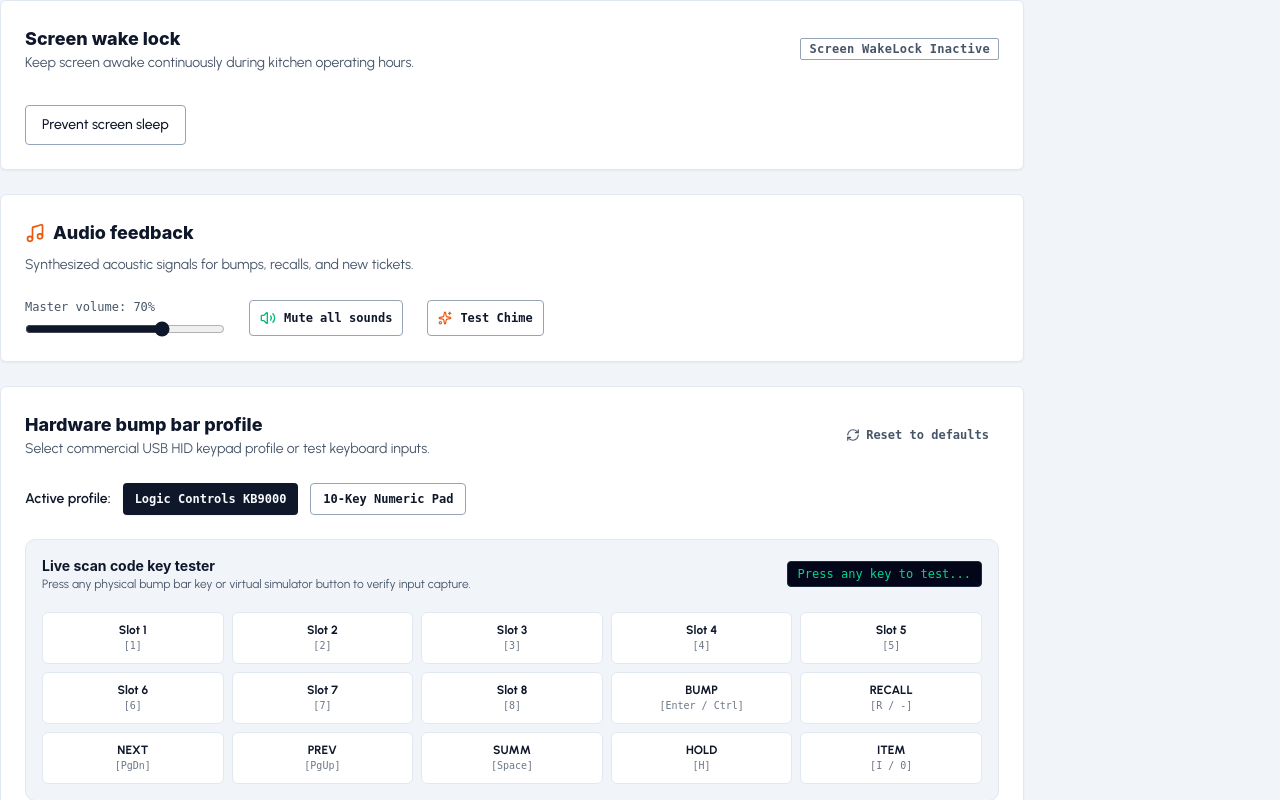
Test: BumpBarSettingsWidget › displays amber degradation banner when wakeLock is denied or unsupported
Click the button "Prevent screen sleep": (105, 125) [25,105,186,145]
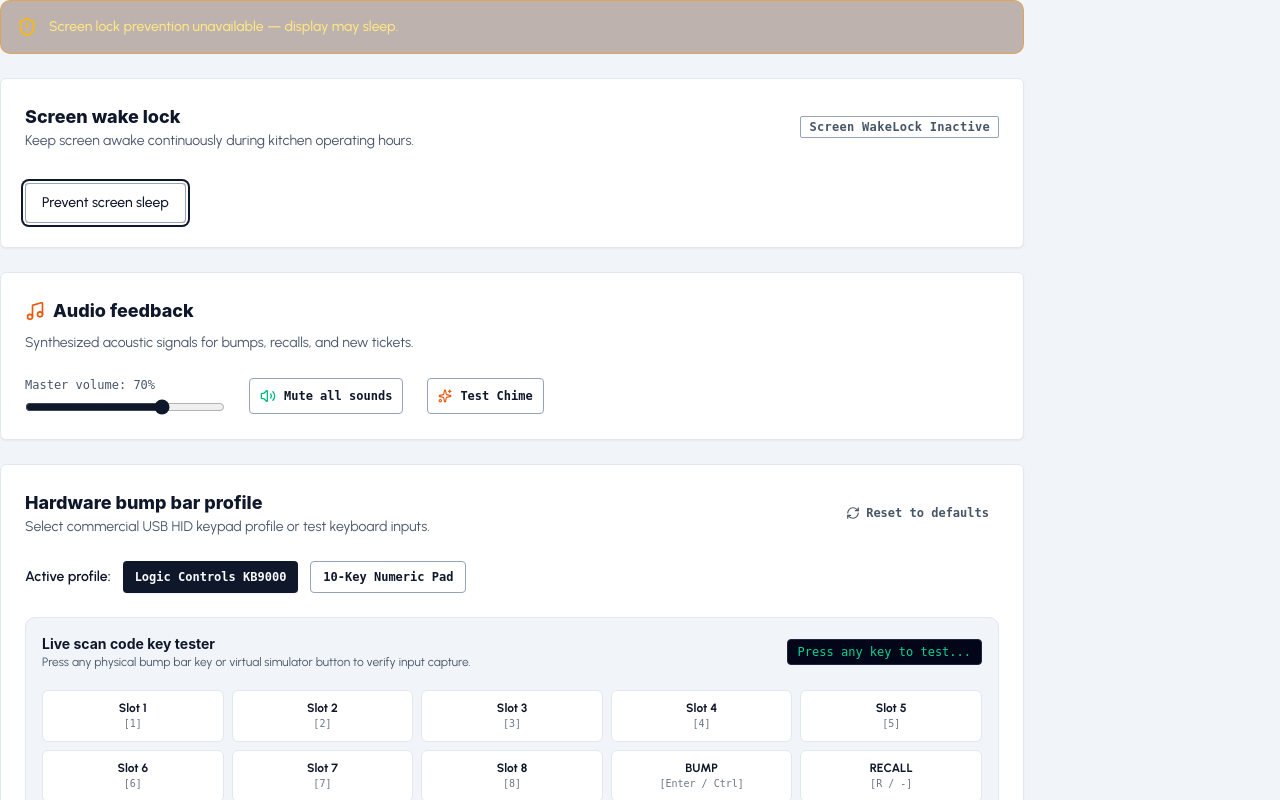
Now the text "Screen lock prevention unavailable — display may sleep." is shown, box [49,17,398,37]
